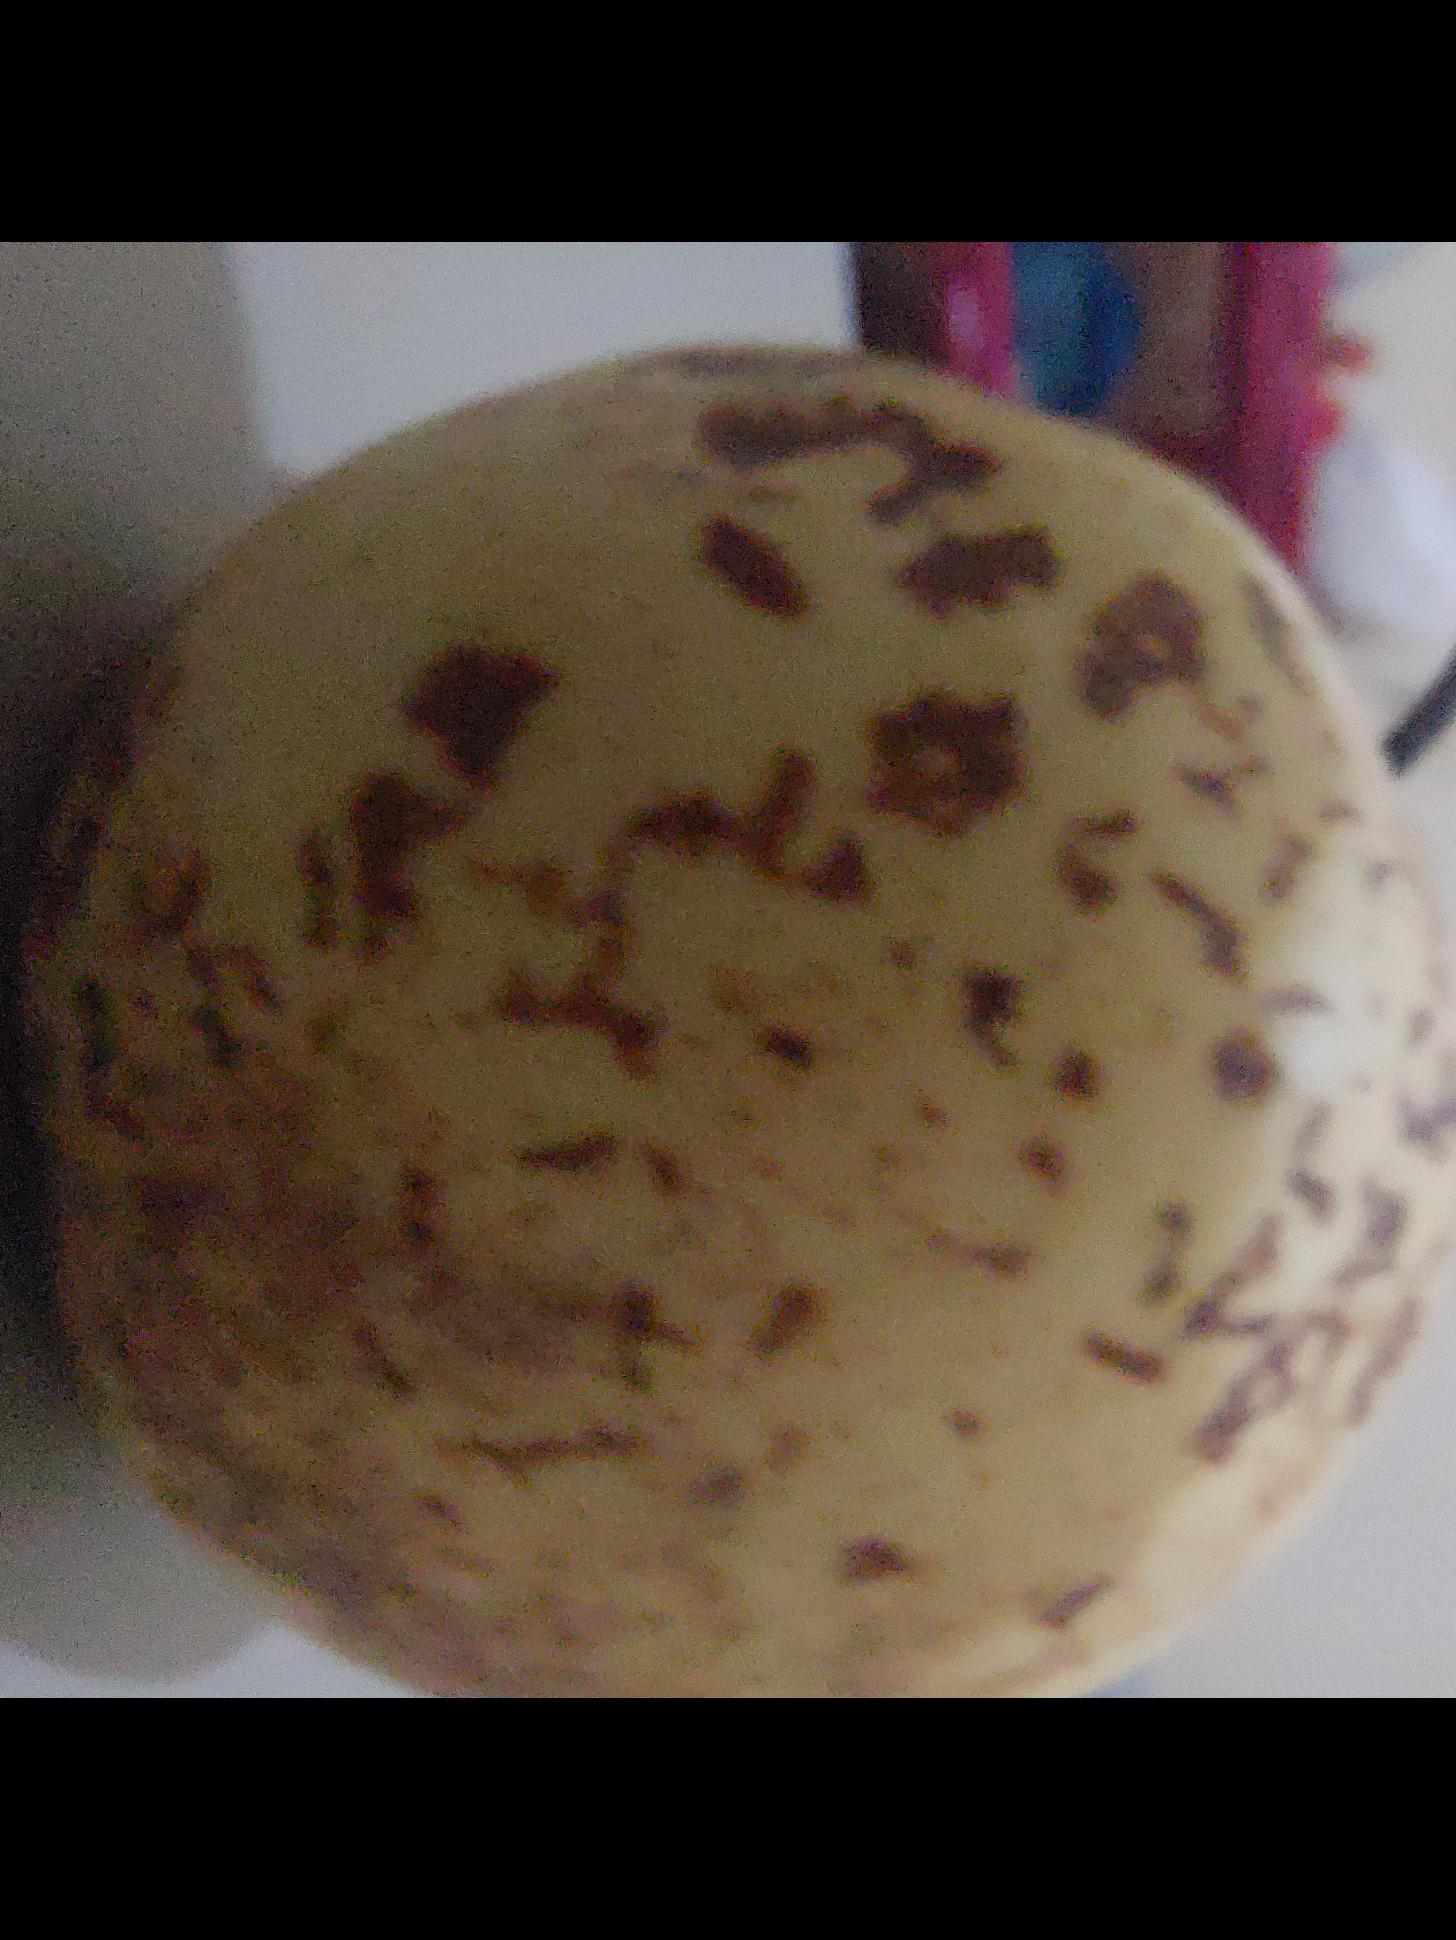Bad Pear: (3, 245, 1456, 1698)
